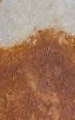Corrosion: (1, 26, 75, 120)
